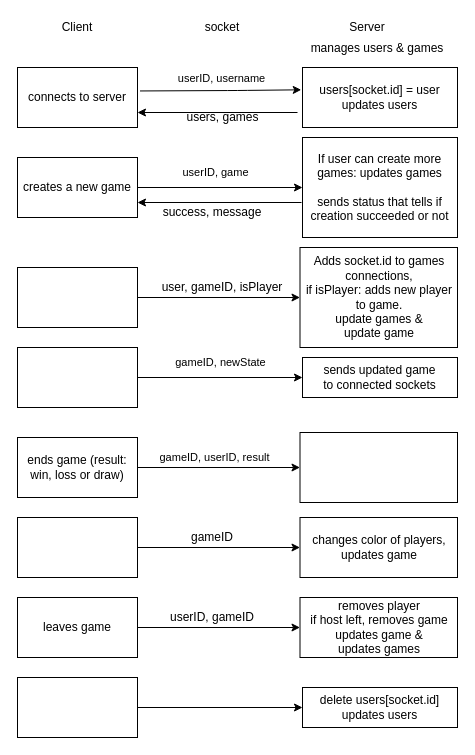
Some shapes in this 475 by 755 pixel diagram are drawn without their labels. Here are the shapes that lost their labels. From the top down, the centre of each, then its label:
(77,297): joins to a game
(77,377): makes a (valid) move
(378,467): adds score, sets winner or draw updates game
(77,547): rematch (after game has ended)
(77,707): disconnects from server
